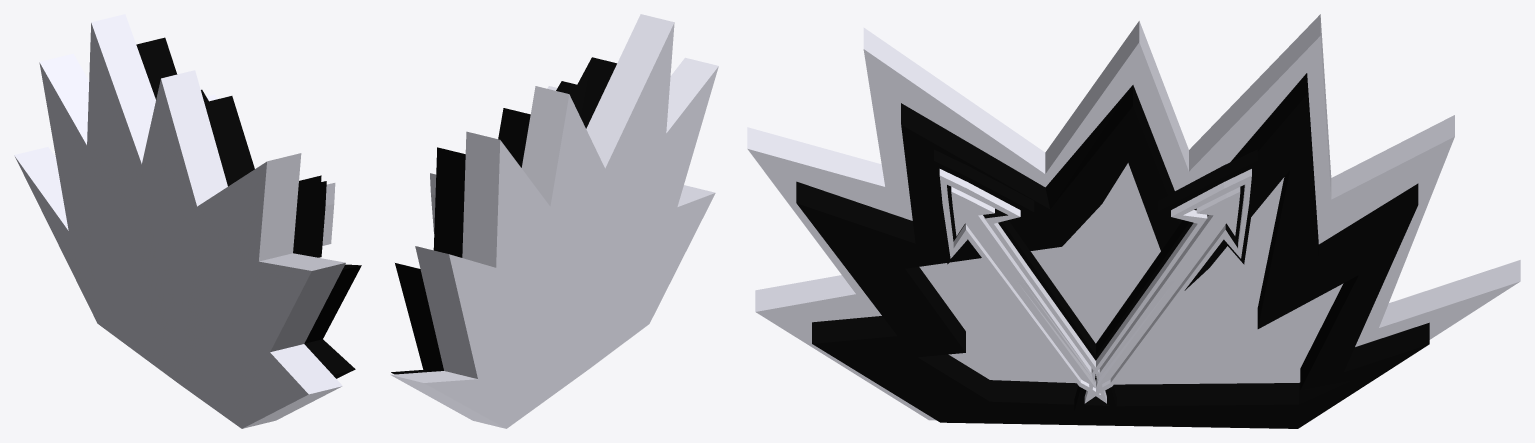
File: decoration1.obj
3 views of the same model, side by side, from view 1: azimuth 30°, elevation 25°; view 2: azimuth 150°, elevation 25°; view 3: azimuth 270°, elevation 25° (orthographic). The views are drawn at different scales.
Parts seen in each view (by area): view 1: 槍中.001_立方体.010; view 2: 槍中.001_立方体.010; view 3: 槍中.001_立方体.010.
Boxes of the visible parts, x1,y1,x2,y2 form: 槍中.001_立方体.010: [14, 14, 361, 428]; 槍中.001_立方体.010: [390, 14, 718, 428]; 槍中.001_立方体.010: [747, 14, 1520, 428].
Size of the model in its own units: 0.4559 by 1.32 by 2.4.
3 materials, 3 textured.
